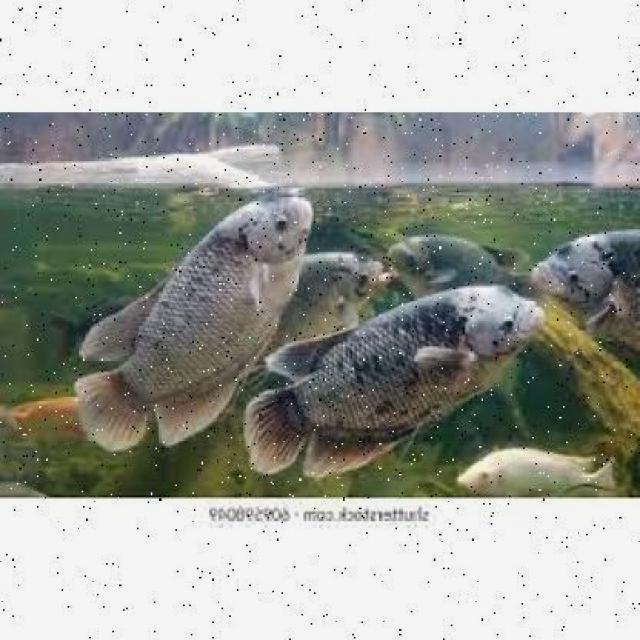gurame: (241, 282, 541, 478), (82, 186, 316, 432), (529, 229, 640, 345), (276, 246, 389, 340), (392, 228, 534, 298)
